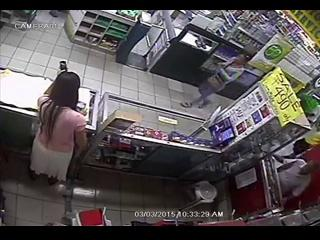Normal: (28, 70, 88, 188)
